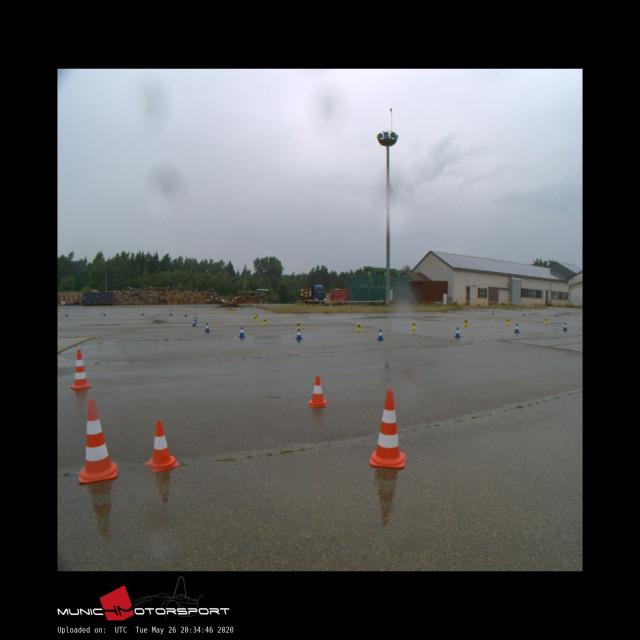blue_cone: (295, 328, 303, 339), (377, 328, 384, 339), (454, 327, 461, 337), (239, 326, 245, 337), (204, 322, 210, 332), (514, 323, 520, 332), (562, 322, 568, 330), (192, 318, 197, 326)
large_orange_cone: (79, 397, 117, 483), (370, 389, 406, 468), (69, 348, 91, 388)
orange_cone: (145, 421, 179, 473), (307, 376, 327, 406)
yellow_cone: (356, 321, 362, 331), (296, 320, 301, 330), (411, 320, 416, 329), (506, 317, 511, 324), (544, 316, 548, 324), (464, 318, 468, 326), (254, 314, 258, 322), (263, 317, 267, 324)
